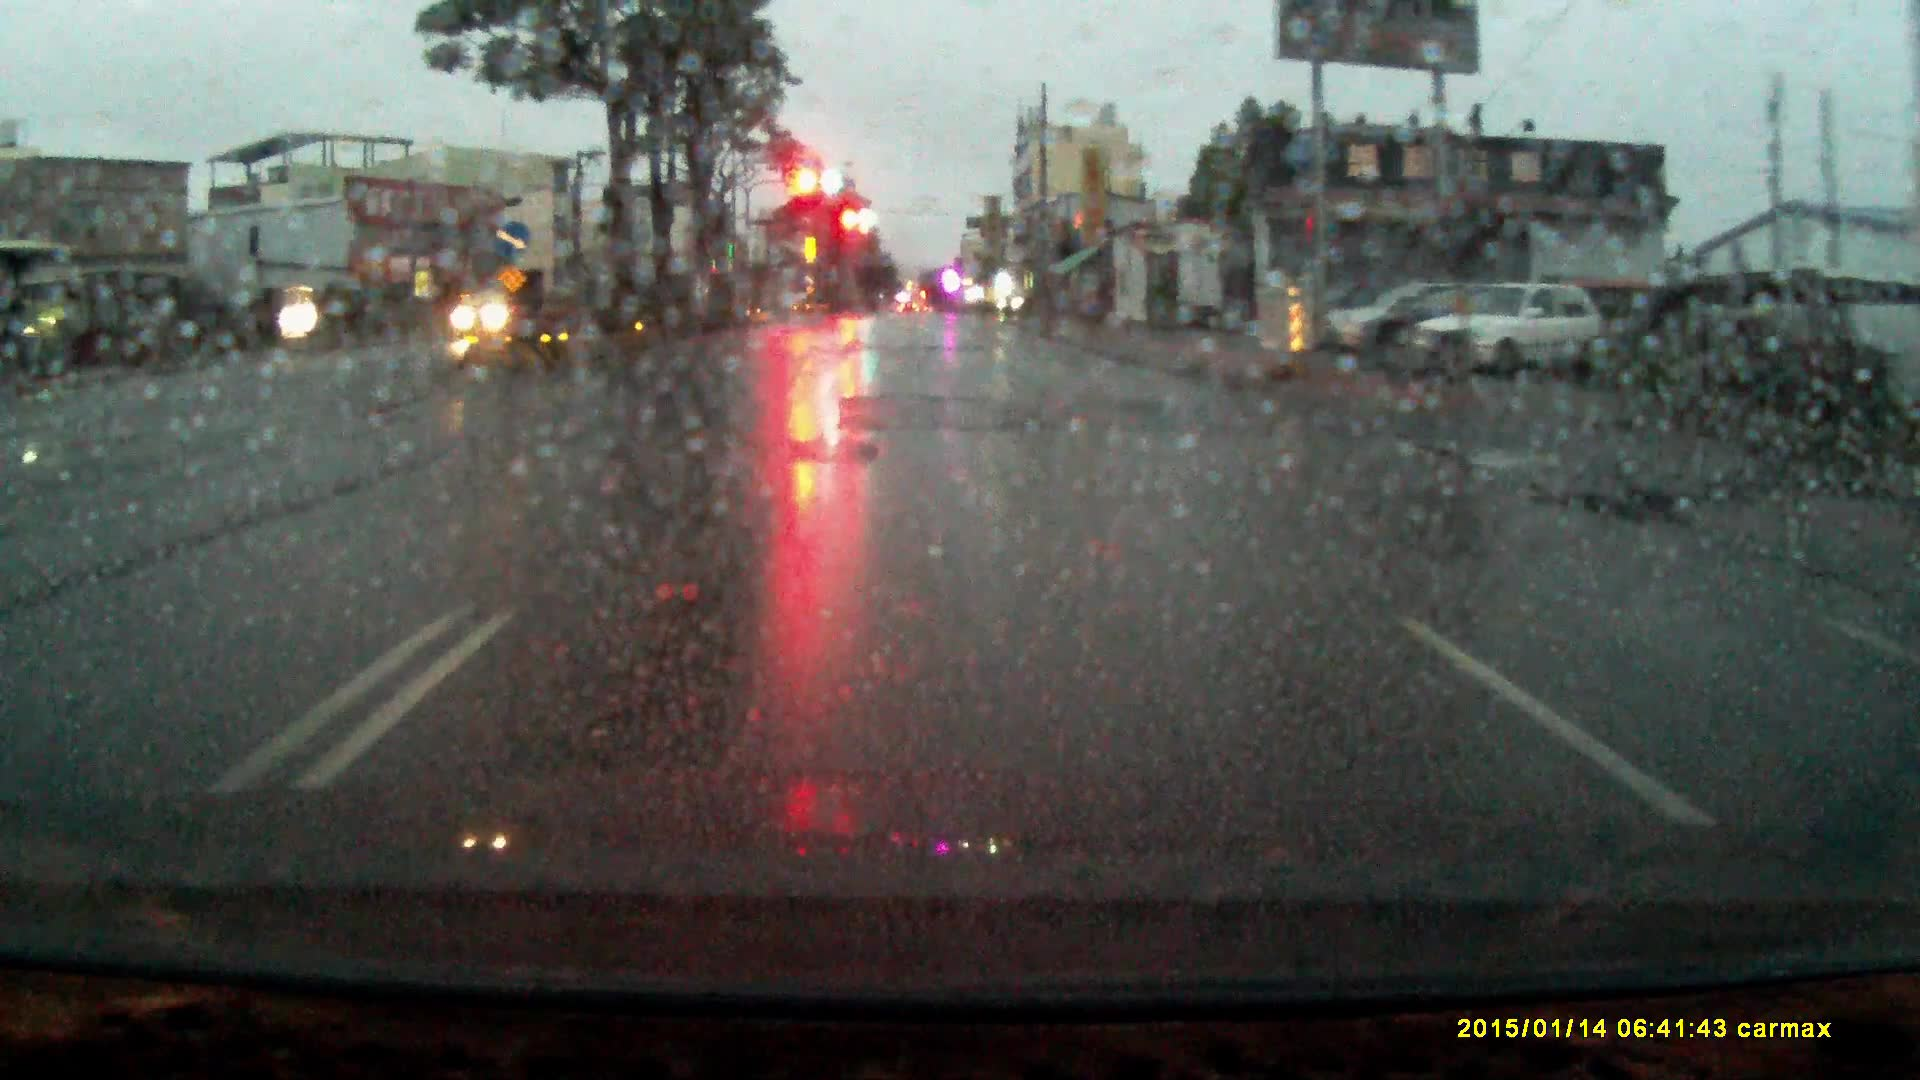vehicle: (1408, 285, 1615, 382), (1352, 290, 1495, 368), (1328, 286, 1437, 363), (450, 294, 541, 344), (1002, 289, 1063, 324)
